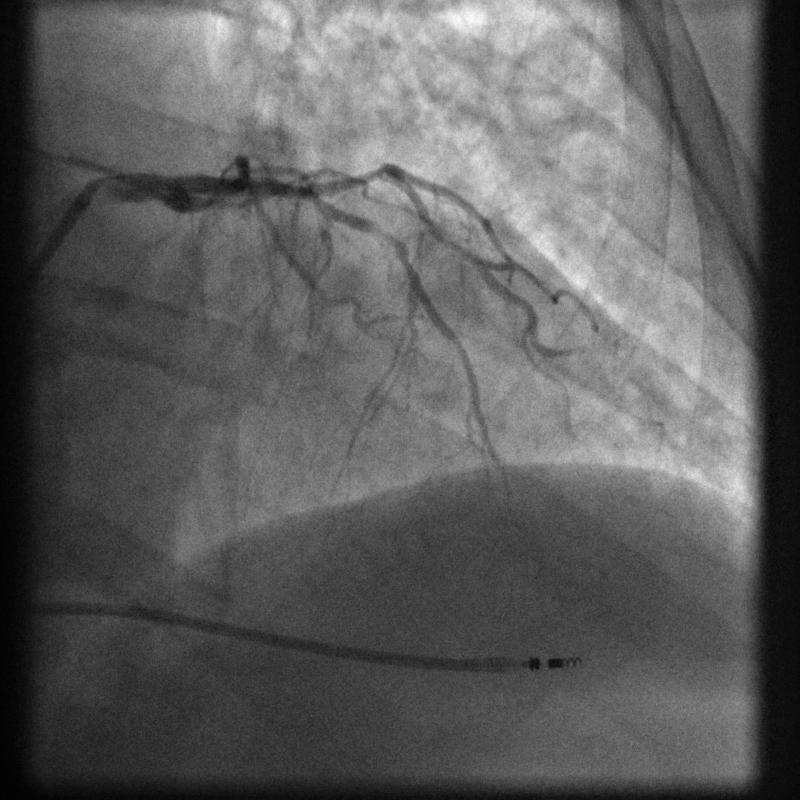Stenosis: (361, 216, 406, 250)
